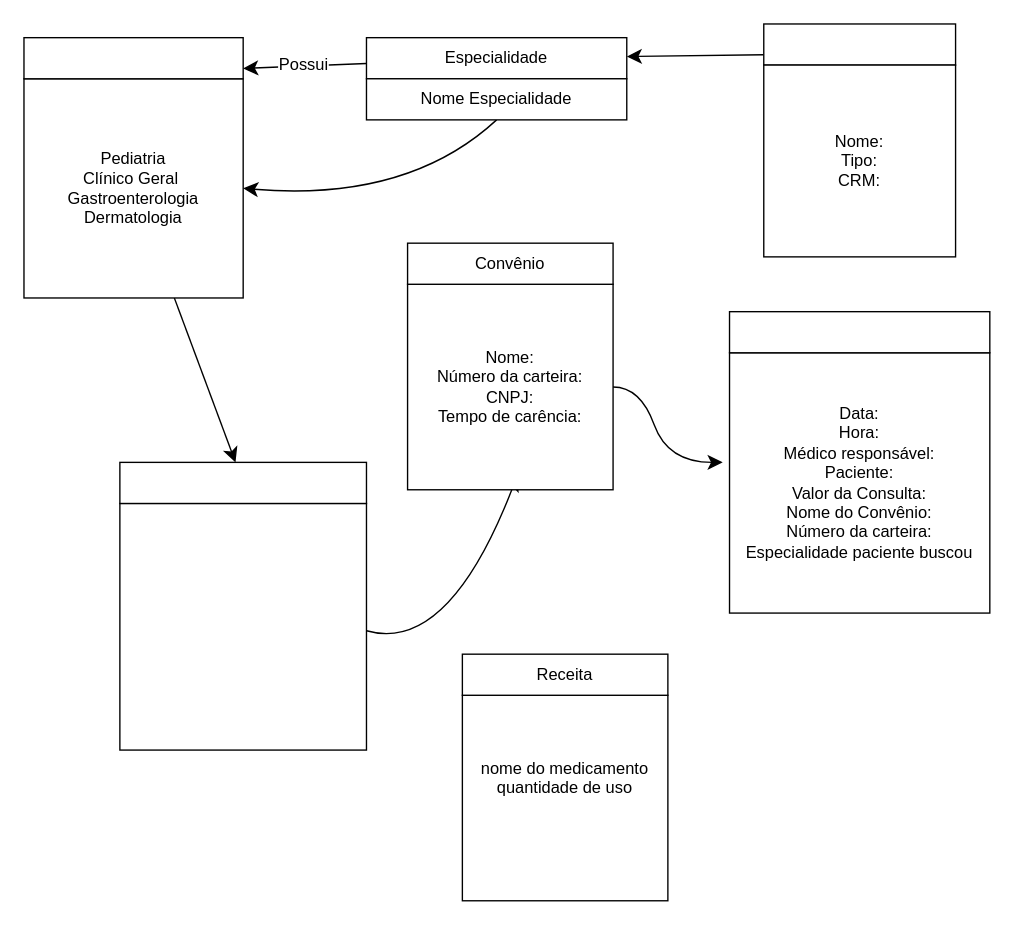
This 1014x925 diagram has some shape labels left out. Here are the shapes that lost their labels. From the top down, the box of each, then its label:
(23, 36, 243, 79): Médico especialista
(762, 23, 956, 65): Médico
(728, 310, 990, 353): Consultas
(119, 461, 366, 503): Pacientes
(119, 502, 366, 750): Nome: Data de nascimento: Endereço: Telefone: E-mail:
